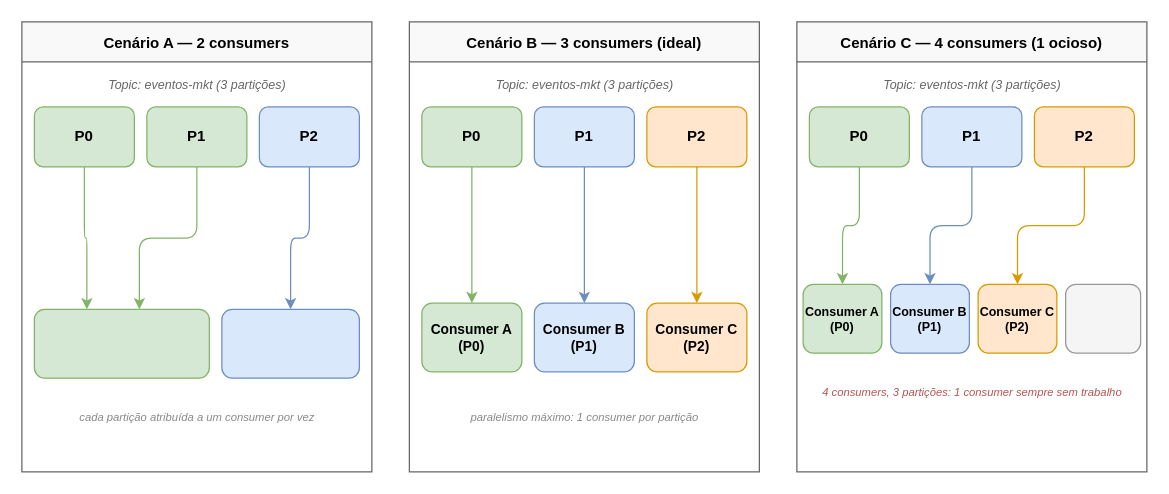
Some shapes in this 1169 by 494 pixel diagram are drawn without their labels. The shapes that lost their labels are listed below. From the top down, each one's centre as x and y in pixels, then its label:
the point at 1102,318: Consumer D (ocioso)
the point at 121,343: Consumer A (P0 e P1)
the point at 290,343: Consumer B (P2)
